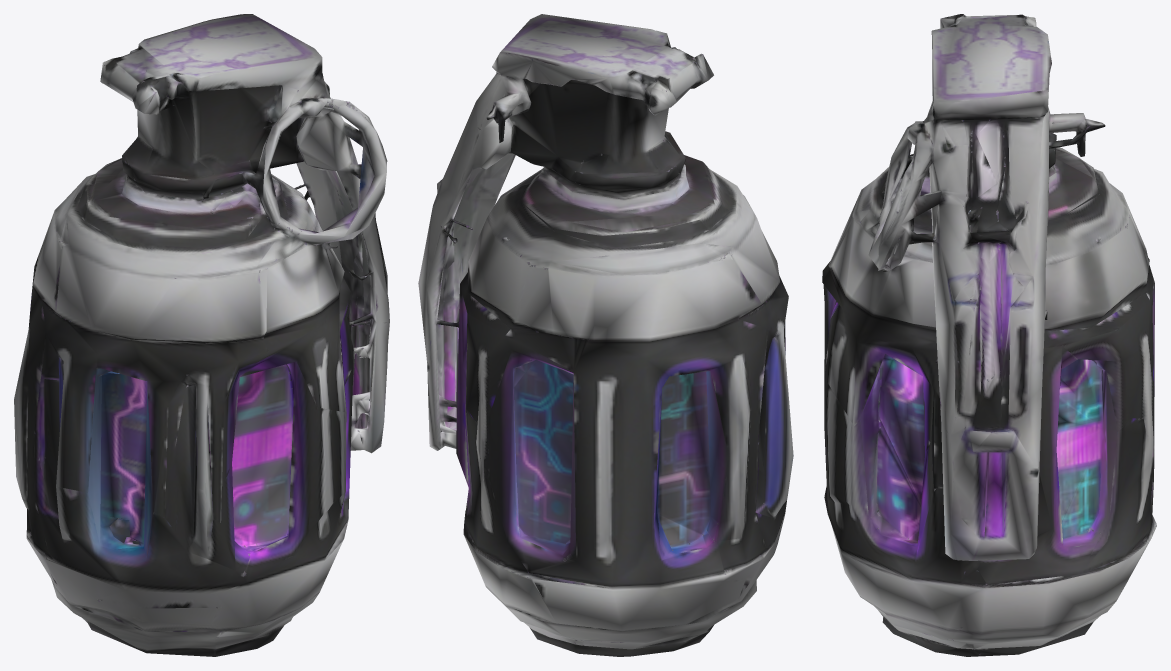
The model's file is neongranata.glb.
The picture shows the model from 3 angles, left to right: view 1: azimuth 30°, elevation 25°; view 2: azimuth 150°, elevation 25°; view 3: azimuth 270°, elevation 25°; orthographic projection. The views are drawn at different scales.
Bounding box in the file's own units: 1.26 × 2 × 1.05.
Materials: 1 (1 with a texture image).
